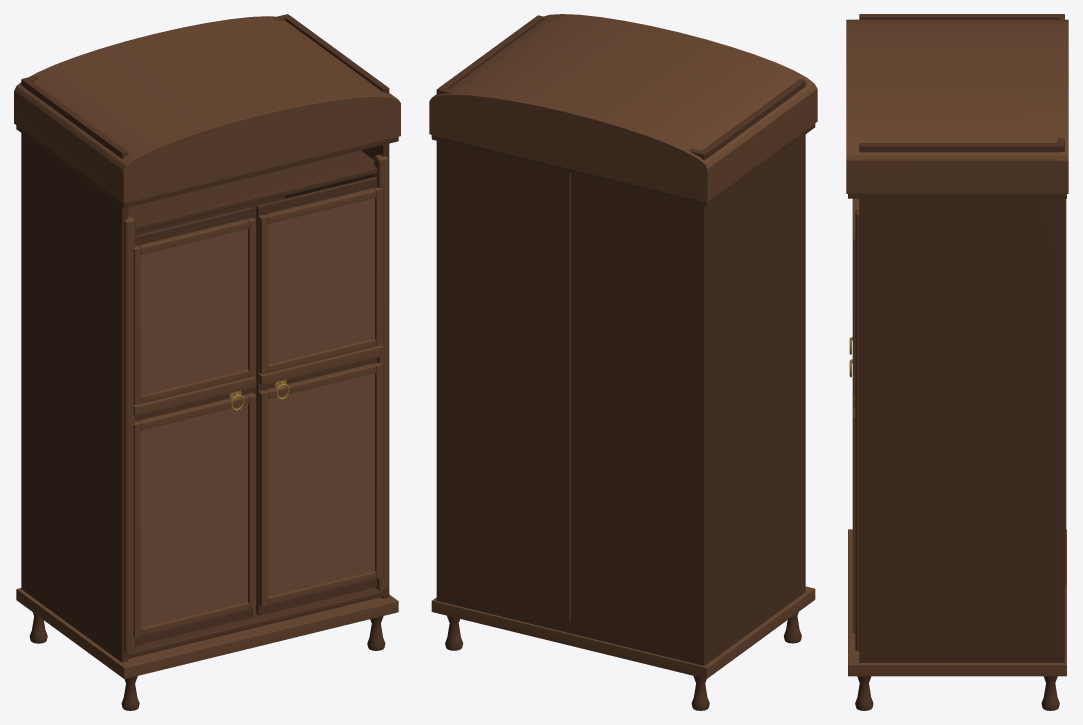
The model's file is rpg-mansion-arched-armoire-01.glb.
3 renders of one model, left to right at view 1: azimuth 30°, elevation 25°; view 2: azimuth 150°, elevation 25°; view 3: azimuth 270°, elevation 25°, orthographic.
Parts seen in each view (by area): view 1: rpg-mansion-arched-armoire-01; view 2: rpg-mansion-arched-armoire-01; view 3: rpg-mansion-arched-armoire-01.
Part boxes in pixels (x1=…): rpg-mansion-arched-armoire-01: x1=14, y1=14, x2=400, y2=710; rpg-mansion-arched-armoire-01: x1=429, y1=14, x2=817, y2=710; rpg-mansion-arched-armoire-01: x1=846, y1=14, x2=1068, y2=710.
Bounding box in the file's own units: 1.13 × 2.21 × 0.773.
